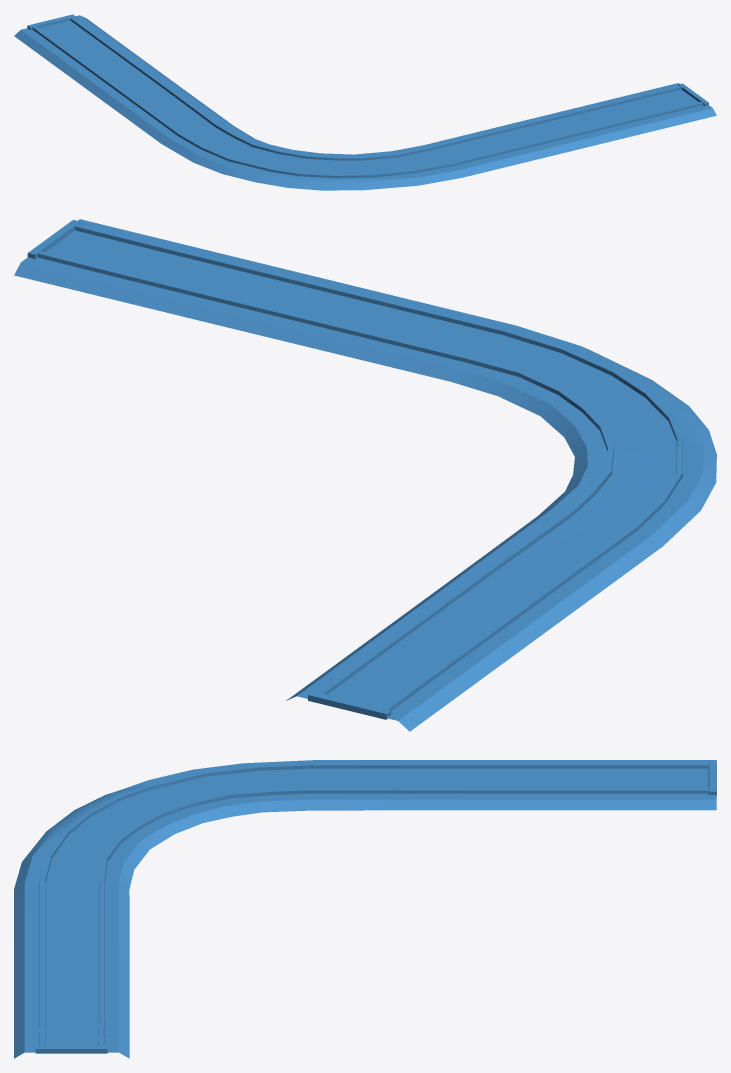
Rendered from TramRails_Bend.fbx.
3 views of the same model, one above another, from view 1: azimuth 30°, elevation 25°; view 2: azimuth 150°, elevation 25°; view 3: azimuth 270°, elevation 25° (orthographic). The views are drawn at different scales.
Visible parts, largest first — view 1: TramRails_Bend; view 2: TramRails_Bend; view 3: TramRails_Bend.
Part boxes in pixels (left/top/right/bottom): TramRails_Bend: left=14, top=14, right=716, bottom=190; TramRails_Bend: left=14, top=219, right=716, bottom=731; TramRails_Bend: left=14, top=760, right=716, bottom=1058.
Bounding box in the file's own units: 1469 × 22.5 × 1470.
